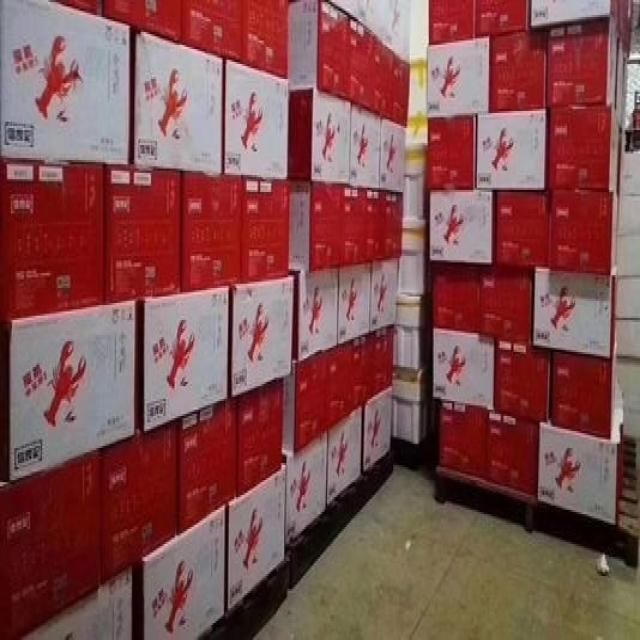box: (8, 301, 135, 484), (0, 0, 129, 166), (1, 448, 102, 640), (1, 158, 104, 320), (128, 32, 223, 175), (101, 420, 177, 585), (144, 286, 229, 433), (143, 506, 224, 640), (104, 166, 181, 303), (228, 463, 286, 612), (538, 420, 618, 525), (177, 397, 237, 535), (222, 60, 289, 179), (231, 275, 294, 399), (181, 173, 241, 294), (533, 269, 611, 358), (545, 19, 618, 109), (547, 105, 621, 192), (289, 0, 351, 100), (288, 87, 350, 186), (236, 378, 284, 499), (475, 111, 547, 190), (549, 192, 618, 273), (427, 36, 489, 119), (241, 179, 290, 284), (433, 329, 495, 410), (291, 181, 345, 273), (554, 352, 612, 437), (286, 431, 328, 548), (282, 350, 328, 454), (489, 32, 547, 113), (429, 190, 493, 262), (494, 341, 548, 422), (489, 410, 539, 495), (495, 192, 551, 267), (478, 269, 532, 343), (424, 115, 476, 190), (297, 269, 338, 363), (182, 0, 243, 62), (241, 0, 290, 77), (440, 401, 490, 476), (327, 407, 361, 506), (104, 2, 183, 43), (351, 17, 384, 115), (433, 267, 481, 331), (530, 0, 618, 32), (339, 265, 372, 348), (351, 102, 381, 190), (393, 369, 427, 444), (364, 386, 392, 474), (328, 343, 355, 431), (382, 45, 410, 128), (428, 2, 475, 45), (475, 0, 531, 36), (380, 117, 406, 194), (398, 220, 425, 294), (372, 260, 398, 333), (397, 294, 421, 373), (385, 0, 412, 66), (345, 186, 367, 265), (405, 147, 427, 222), (352, 0, 387, 45), (372, 326, 394, 397), (352, 333, 372, 410), (381, 192, 403, 260), (367, 190, 382, 262)
